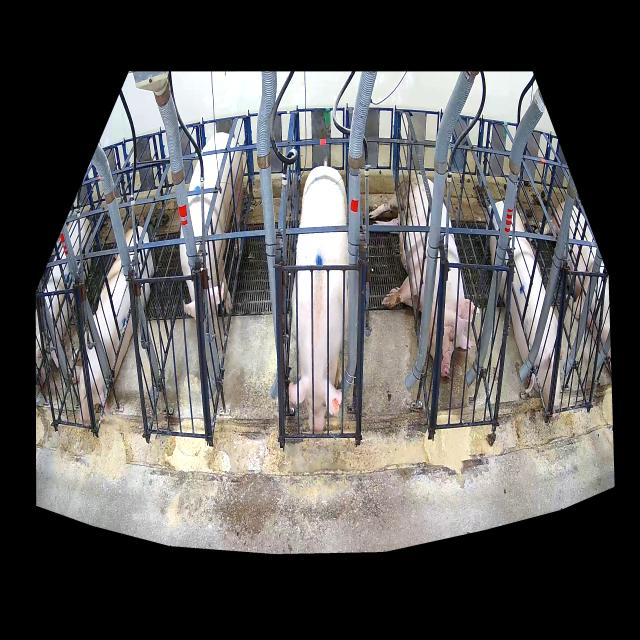pig: (370, 174, 475, 376), (72, 225, 154, 420), (486, 201, 562, 409), (290, 167, 348, 433), (180, 132, 243, 351)
